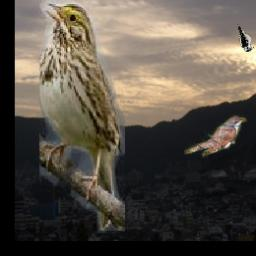Cuckoo: (184, 115, 247, 159)
Sparrow: (38, 0, 124, 234)
Woodpecker: (236, 24, 255, 52)
